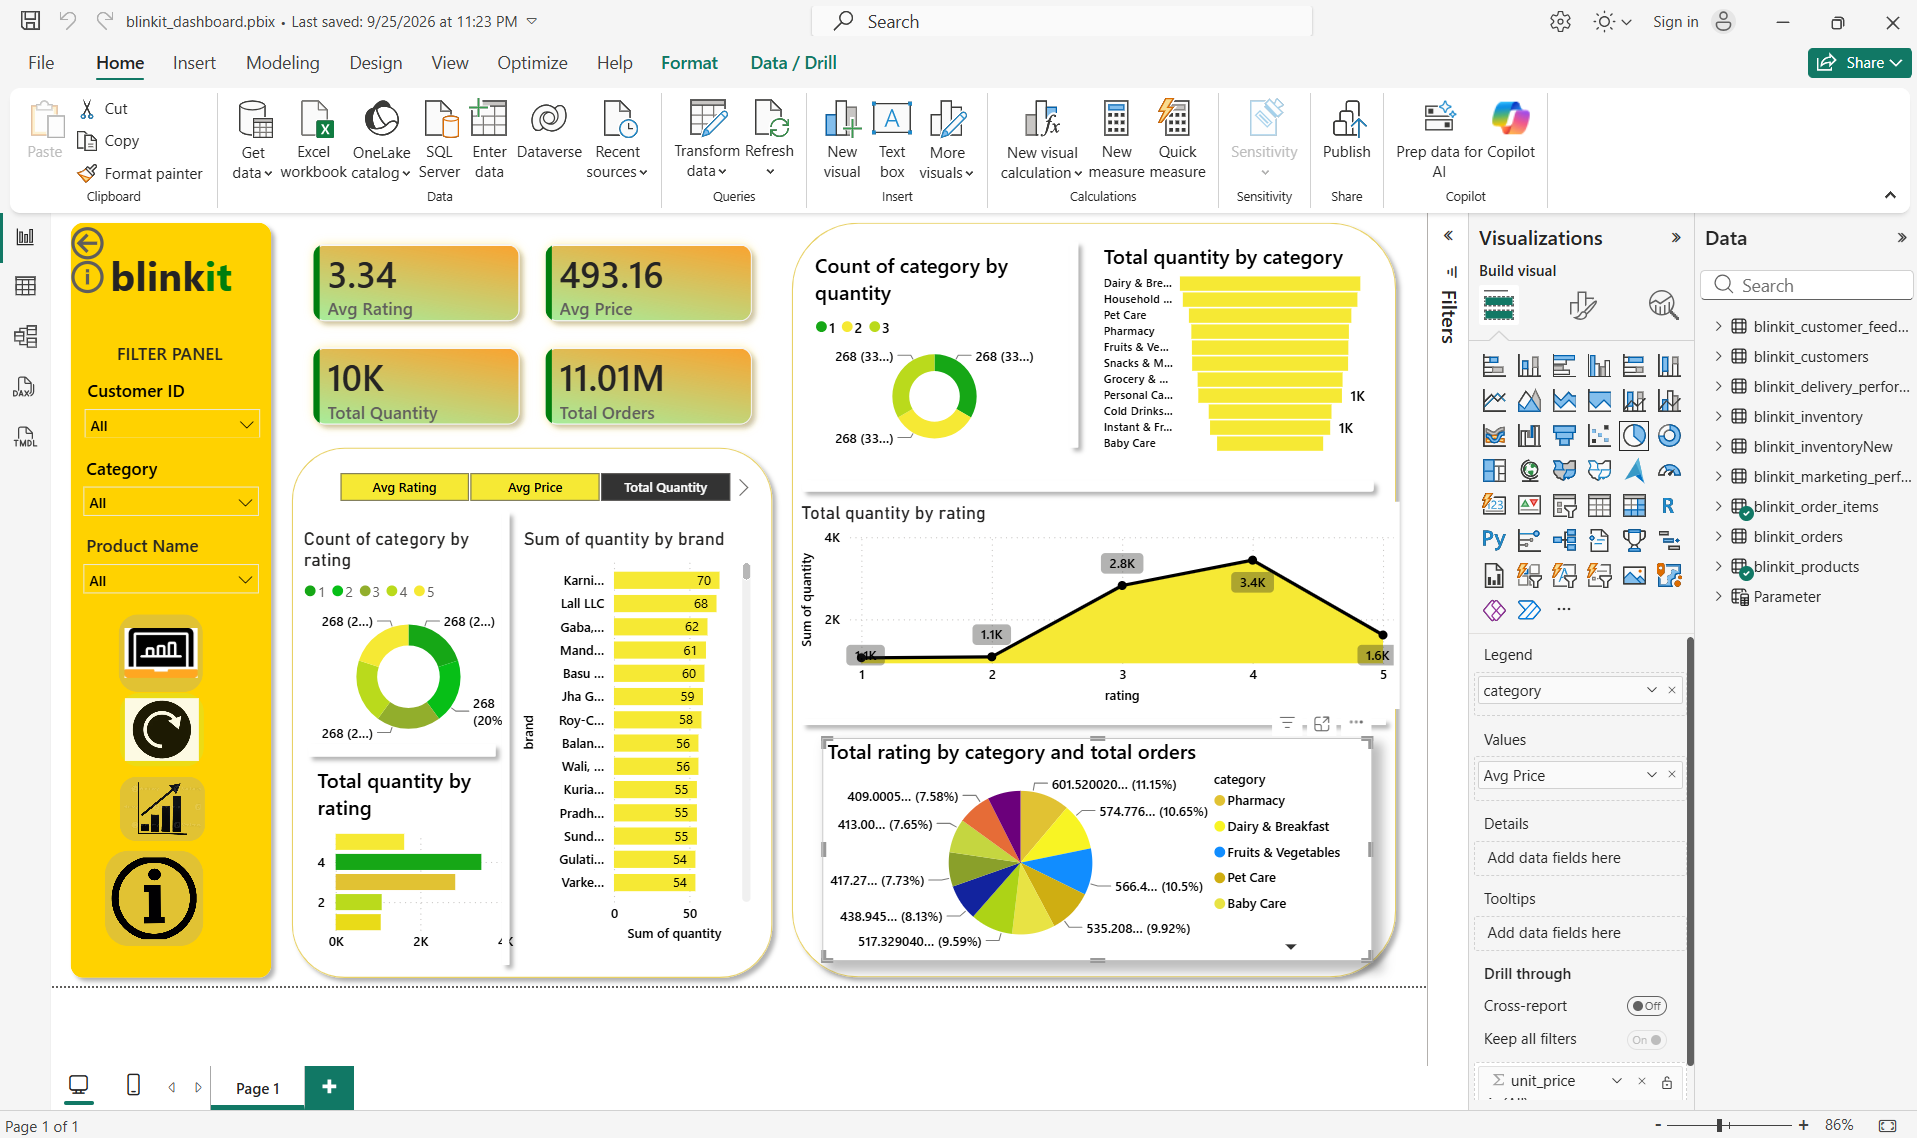

The page's visual inventory and layout, read from the dashboard file:
{"tool":"powerbi","page":{"name":"Page 1","canvas":[1280,720],"ordinal":0},"visuals":[{"type":"shape","box":[9.6,0,204.5,720.4],"z":0},{"type":"textbox","box":[19.2,27.4,183.9,60.4],"z":1000},{"type":"cardVisual","fields":{"Data":["blinkit_customer_feedback.Avg Rating","blinkit_order_items.Avg Price","blinkit_order_items.Total Quantity","blinkit_orders.Total Orders"]},"box":[215,0,466.2,226.2],"z":2000},{"type":"shape","box":[215,208.8,465,511.2],"z":3000},{"type":"slicer","fields":{"Values":["Parameter.Parameter"]},"box":[242.5,235,412.5,38.8],"z":4000},{"type":"donutChart","fields":{"Y":["CountNonNull(blinkit_products.category)"],"Category":["blinkit_customer_feedback.rating"]},"box":[230,292.5,205,208.8],"z":5000},{"type":"clusteredBarChart","fields":{"Category":["blinkit_products.brand"],"Y":["Sum(blinkit_order_items.quantity)"]},"box":[434.9,293,221.2,390],"z":6000},{"type":"clusteredBarChart","title":"Total quantity by rating","fields":{"Category":["blinkit_customer_feedback.rating"],"Y":["Sum(blinkit_order_items.quantity)"]},"box":[242.5,515,192.5,181.2],"z":7000},{"type":"shape","box":[410,268.8,25,440],"z":8000},{"type":"shape","box":[230,485,192.5,30],"z":9000},{"type":"shape","box":[680,0,580,720],"z":10000},{"type":"donutChart","fields":{"Y":["CountNonNull(blinkit_products.category)"],"Category":["blinkit_order_items.quantity"]},"box":[706.2,36.2,232.5,190],"z":11000},{"type":"pieChart","title":"Total rating by category and total orders","fields":{"Category":["blinkit_products.category"],"Y":["blinkit_order_items.Avg Price"]},"box":[717.5,488.8,511.2,207.5],"z":12000},{"type":"funnel","title":"Total quantity by category","fields":{"Y":["Sum(blinkit_order_items.quantity)"],"Category":["blinkit_products.category"]},"box":[975,27.5,253.8,200],"z":13000},{"type":"lineChart","title":"Total quantity by rating","fields":{"Category":["blinkit_customer_feedback.rating"],"Y":["Sum(blinkit_order_items.quantity)"]},"box":[693,268.6,561.2,192.5],"z":14000},{"type":"shape","box":[938.8,17.5,26.2,210],"z":15000},{"type":"shape","box":[690,240,550,28.8],"z":16000},{"type":"shape","box":[690,461.2,561.2,23.8],"z":17000},{"type":"slicer","fields":{"Values":["blinkit_orders.customer_id"]},"box":[21.2,148.8,183.8,60],"z":18000},{"type":"slicer","fields":{"Values":["blinkit_products.category"]},"box":[20,221.2,183.8,66.2],"z":19000},{"type":"slicer","fields":{"Values":["blinkit_products.product_name"]},"box":[20,292.5,183.8,62.5],"z":20000},{"type":"textbox","box":[18.8,113.8,183.8,42.5],"z":21000},{"type":"actionButton","box":[62.5,373.8,78.8,72.5],"z":22000},{"type":"actionButton","box":[63.6,446.3,78.3,68.5],"z":23000},{"type":"actionButton","box":[63.6,524.6,79.5,59.9],"z":24000},{"type":"actionButton","box":[14,8.1,100,40],"z":25000},{"type":"actionButton","box":[14,39.5,100,40],"z":26000},{"type":"actionButton","box":[50.1,592.7,91.8,89],"z":27000}]}

Visuals, with their boxes on the page's 1280x720 design canvas (x1, y1, x2, y2). These are canvas units, not pixel positions in the 1917x1138 screenshot, which may show the page scaled, cropped or inside an application window:
shape: select_region(10, 0, 214, 720)
textbox: select_region(19, 27, 203, 88)
cardVisual - blinkit_customer_feedback.Avg Rating x blinkit_order_items.Avg Price: select_region(215, 0, 681, 226)
shape: select_region(215, 209, 680, 720)
slicer - Parameter.Parameter: select_region(242, 235, 655, 274)
donutChart - CountNonNull(blinkit_products.category) x blinkit_customer_feedback.rating: select_region(230, 292, 435, 501)
clusteredBarChart - blinkit_products.brand x Sum(blinkit_order_items.quantity): select_region(435, 293, 656, 683)
"Total quantity by rating" clusteredBarChart: select_region(242, 515, 435, 696)
shape: select_region(410, 269, 435, 709)
shape: select_region(230, 485, 422, 515)
shape: select_region(680, 0, 1260, 720)
donutChart - CountNonNull(blinkit_products.category) x blinkit_order_items.quantity: select_region(706, 36, 939, 226)
"Total rating by category and total orders" pieChart: select_region(718, 489, 1229, 696)
"Total quantity by category" funnel: select_region(975, 28, 1229, 228)
"Total quantity by rating" lineChart: select_region(693, 269, 1254, 461)
shape: select_region(939, 18, 965, 228)
shape: select_region(690, 240, 1240, 269)
shape: select_region(690, 461, 1251, 485)
slicer - blinkit_orders.customer_id: select_region(21, 149, 205, 209)
slicer - blinkit_products.category: select_region(20, 221, 204, 287)
slicer - blinkit_products.product_name: select_region(20, 292, 204, 355)
textbox: select_region(19, 114, 203, 156)
actionButton: select_region(62, 374, 141, 446)
actionButton: select_region(64, 446, 142, 515)
actionButton: select_region(64, 525, 143, 584)
actionButton: select_region(14, 8, 114, 48)
actionButton: select_region(14, 40, 114, 80)
actionButton: select_region(50, 593, 142, 682)
